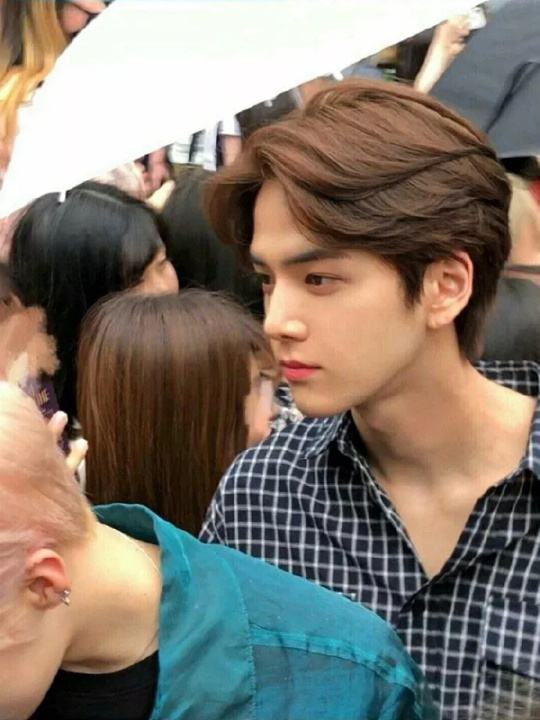person: (205, 102, 461, 532)
